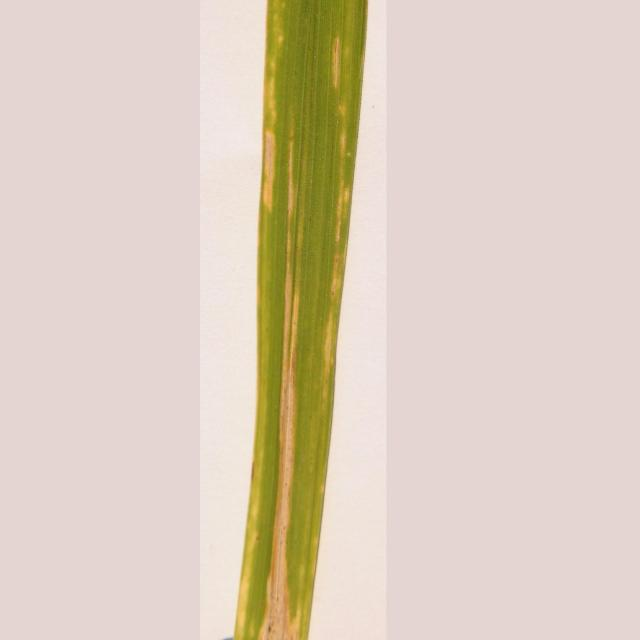Bacterial leaf blight: (198, 0, 398, 640)
